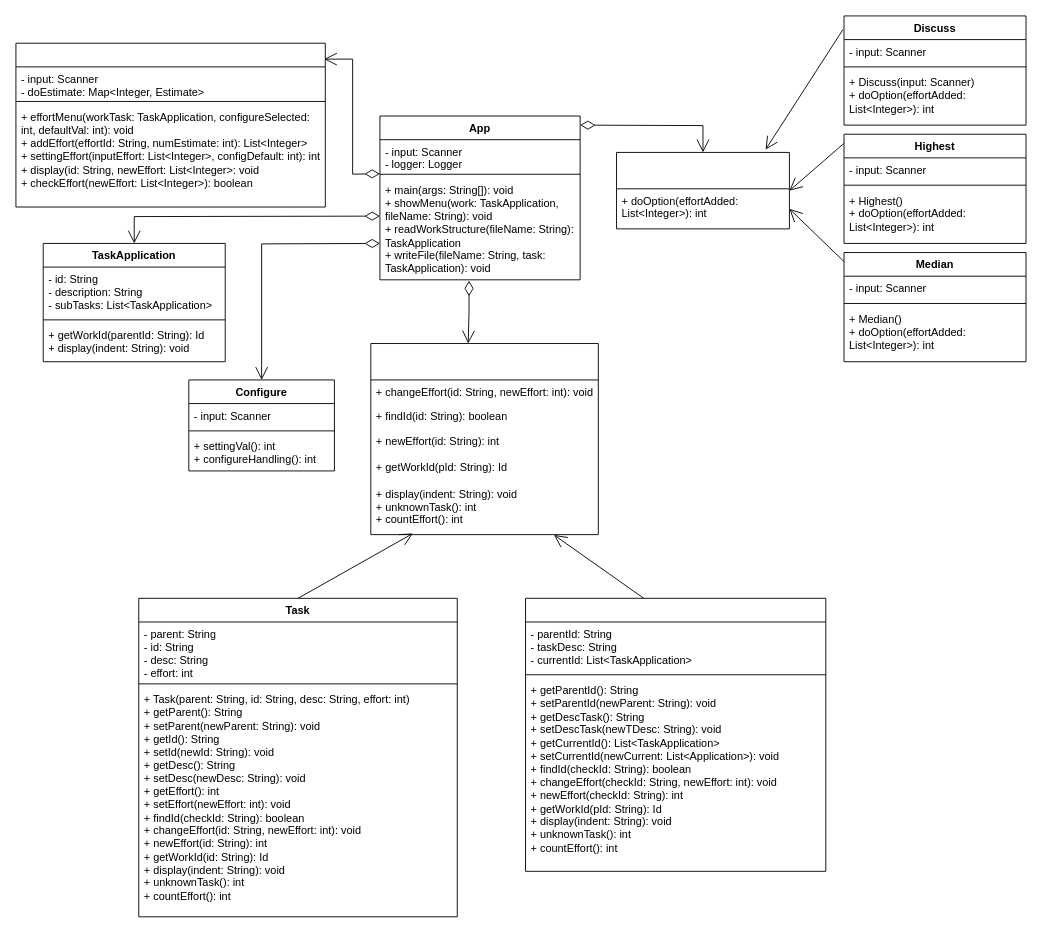
Some shapes in this 1042 by 935 pixel diagram are drawn without their labels. Here are the shapes that lost their labels. From the top down, the box of each, then its label:
(15, 42, 325, 207): EffortEstimation
(616, 152, 789, 229): <<interface>> Estimate
(370, 343, 598, 535): <<interface>> TaskApplication
(525, 597, 826, 871): Id
